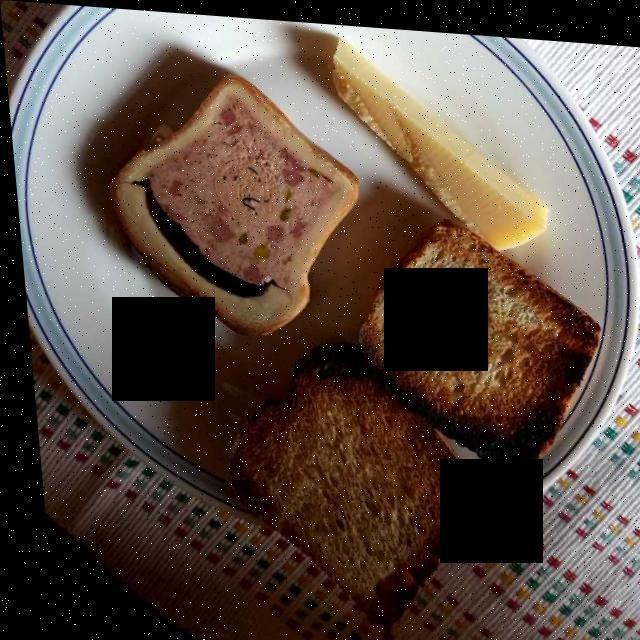bread: (217, 214, 608, 611), (97, 66, 362, 336)
cheese: (335, 44, 540, 240)
